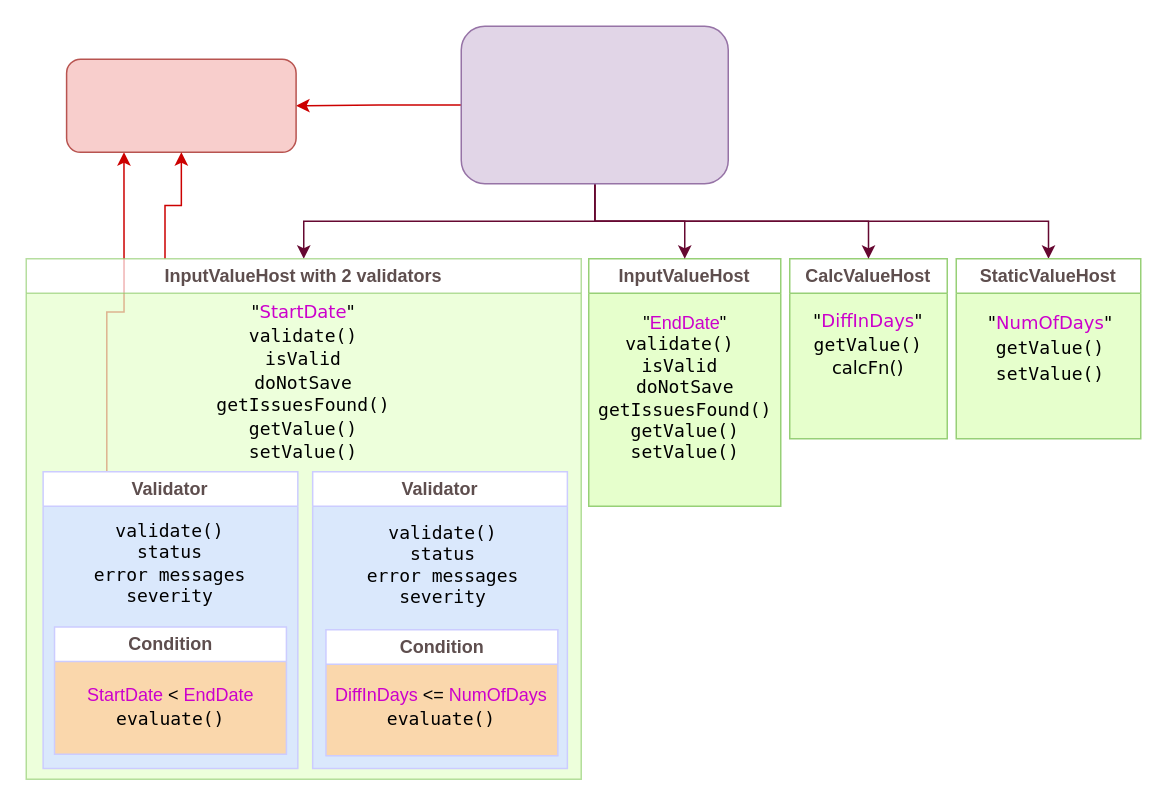
Image size: 1167x806. Some labels were removed from this diagram. Here are the shapes that lost their labels. From the top down, the centre of each, then its label:
At pixel 180 105: "ValidationServices factories services".
At pixel 594 104: "ValidationManager validate() isValid doNotSave getIssuesFound() getValueHost()".
